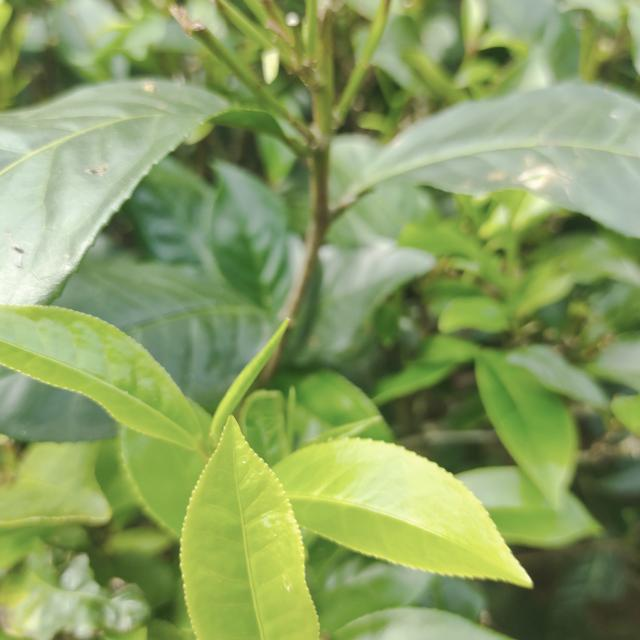unopened_leaf: (193, 312, 298, 456)
